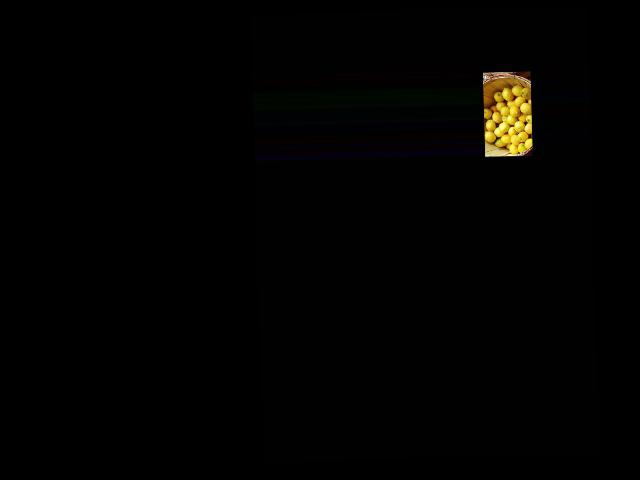lemon: (484, 109, 494, 120)
